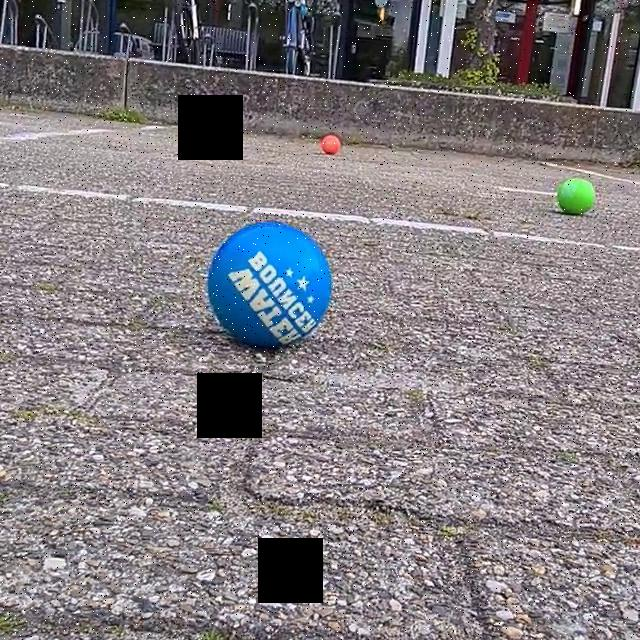ball: (558, 175, 594, 219), (318, 134, 340, 160)
